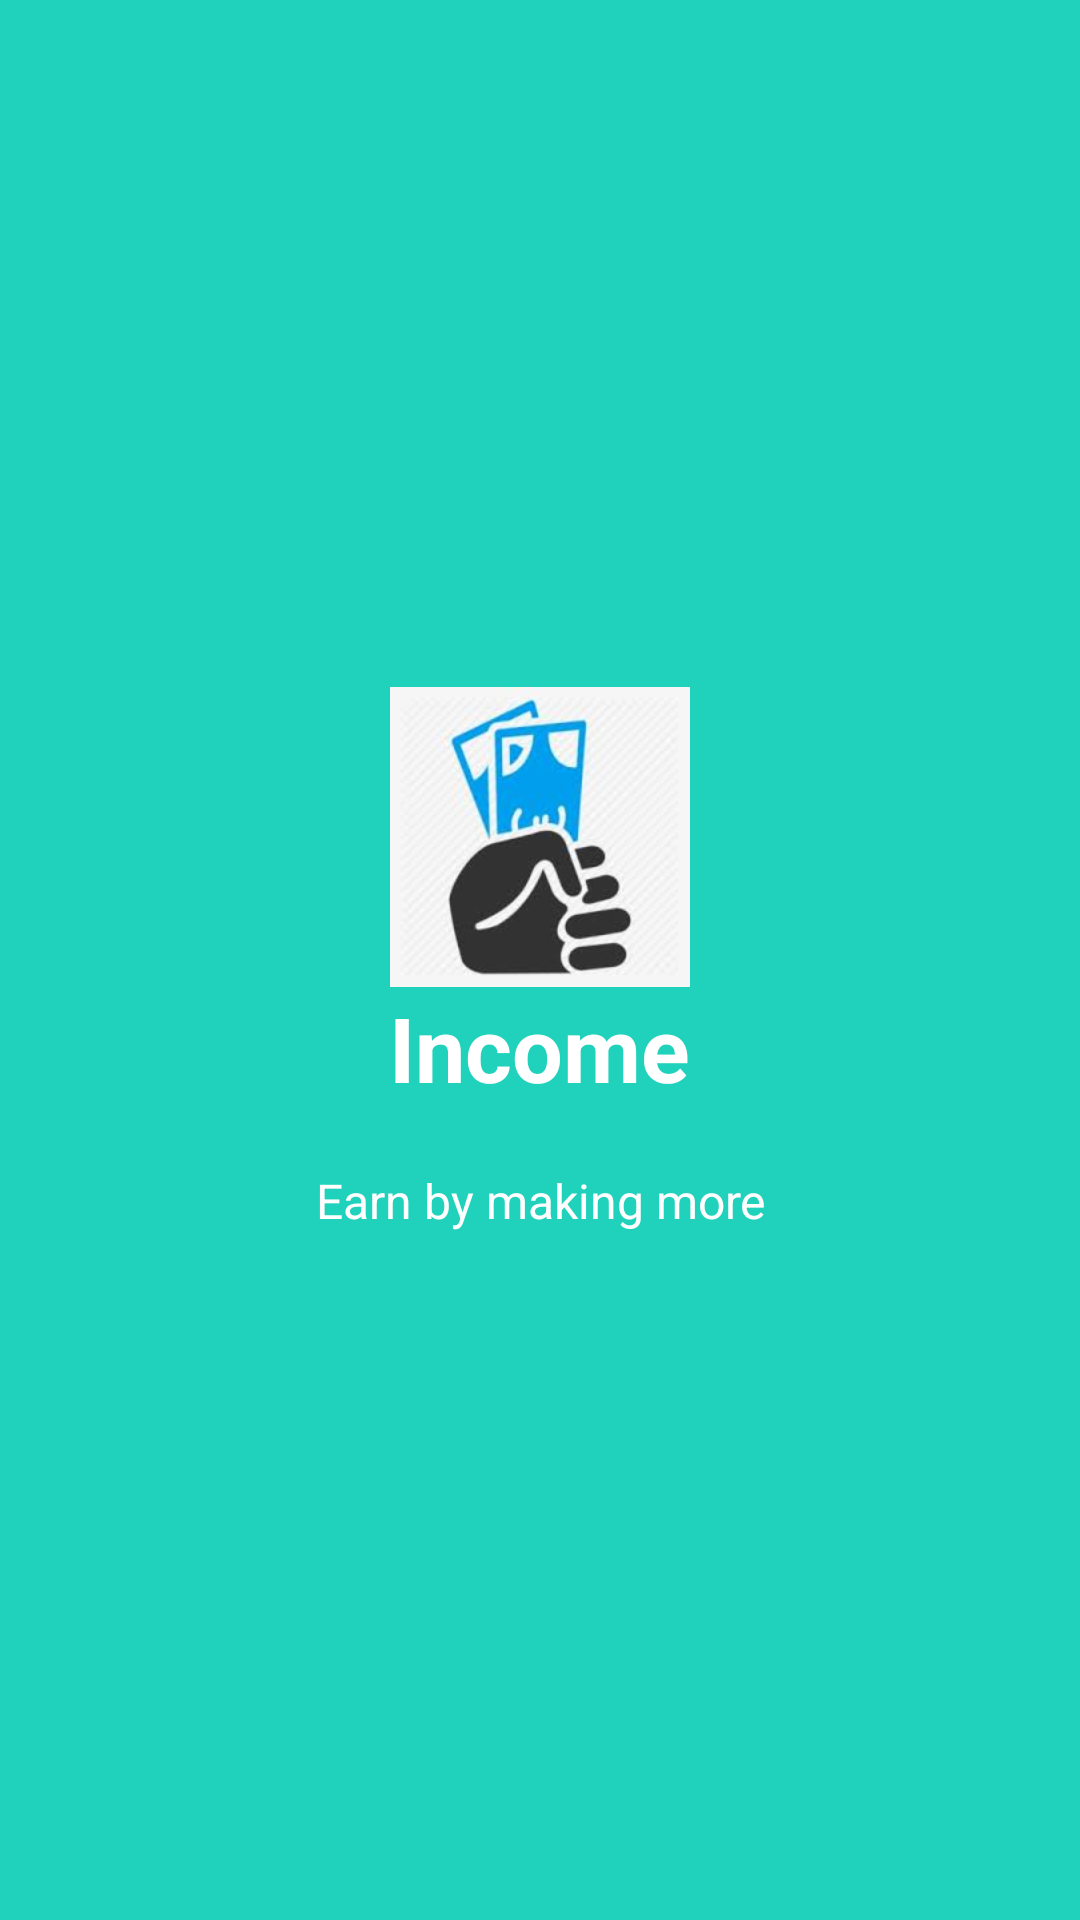

Locate icon controls on the screen. Image size 1080x1920, boxes as (x1, y1, x2, y2).
money: (390, 687, 690, 987)
